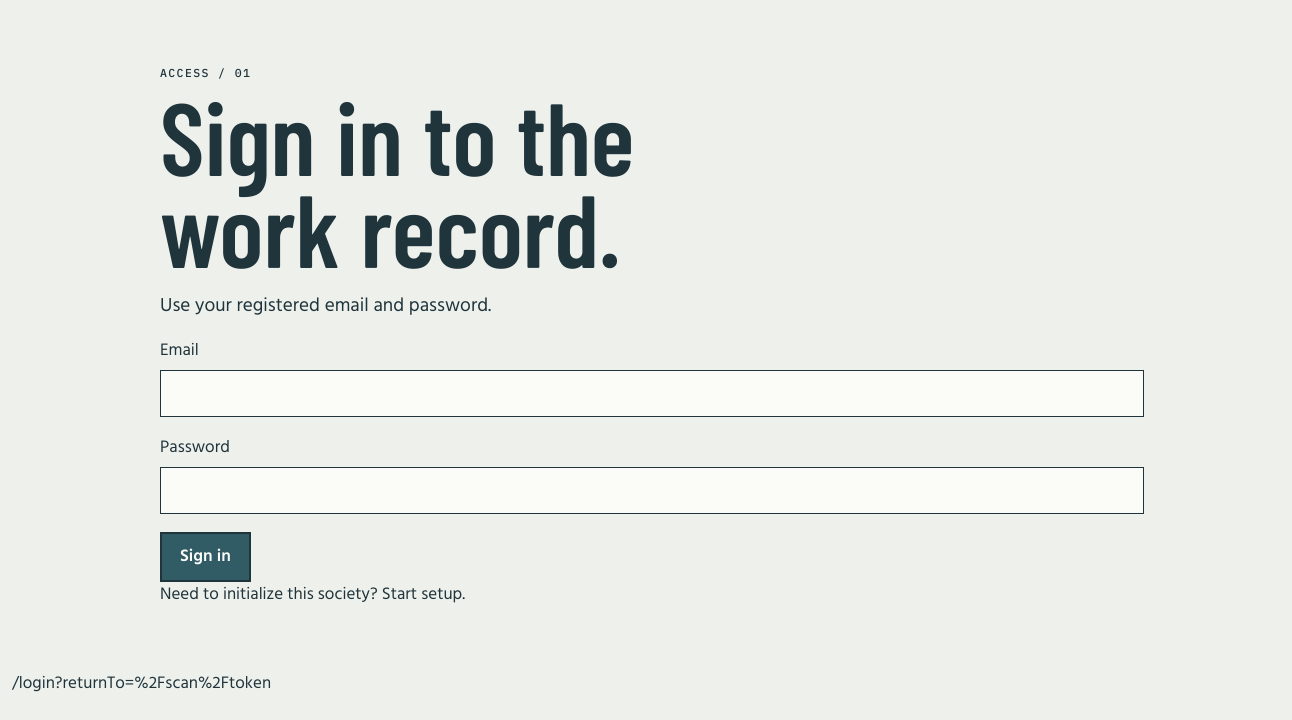
Test: asset identity experience › returns to encoded scan path after login
In the field labelled "Email": (652, 394) [160,370,1144,417], type "r@x.test"
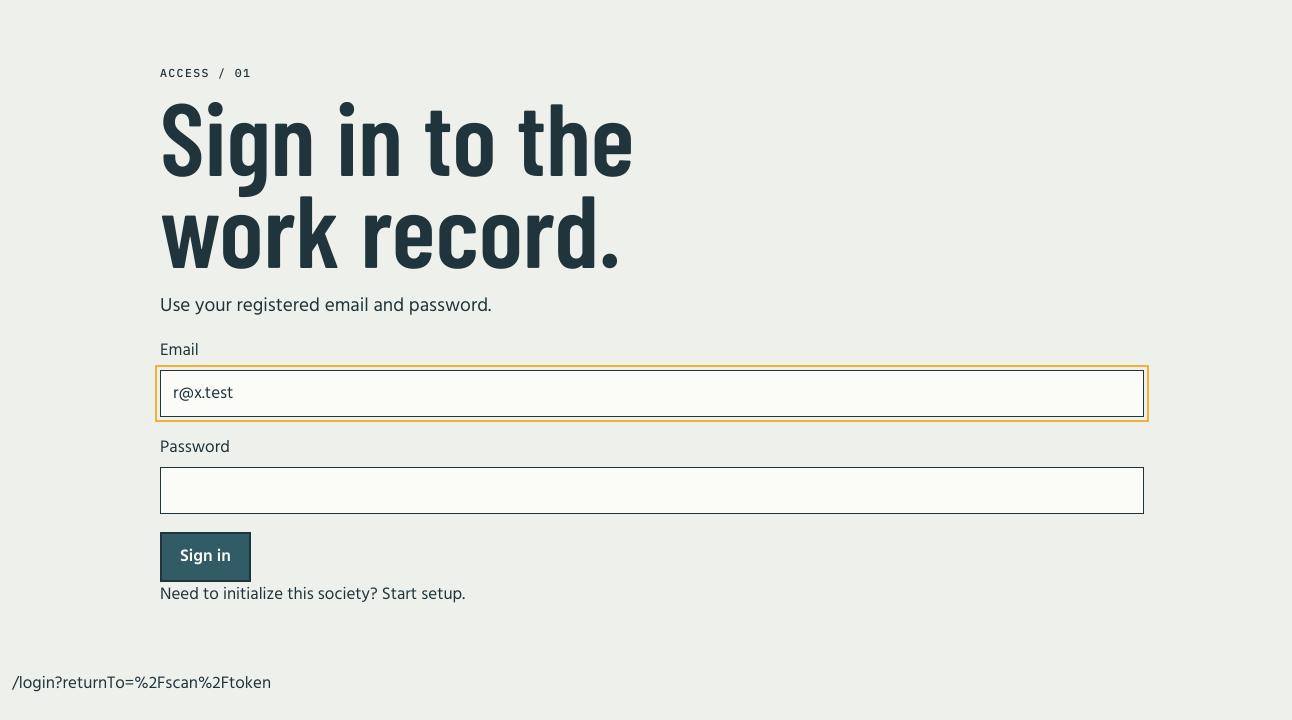
In the password field labelled "Password": (652, 491) [160,467,1144,514], type "password"
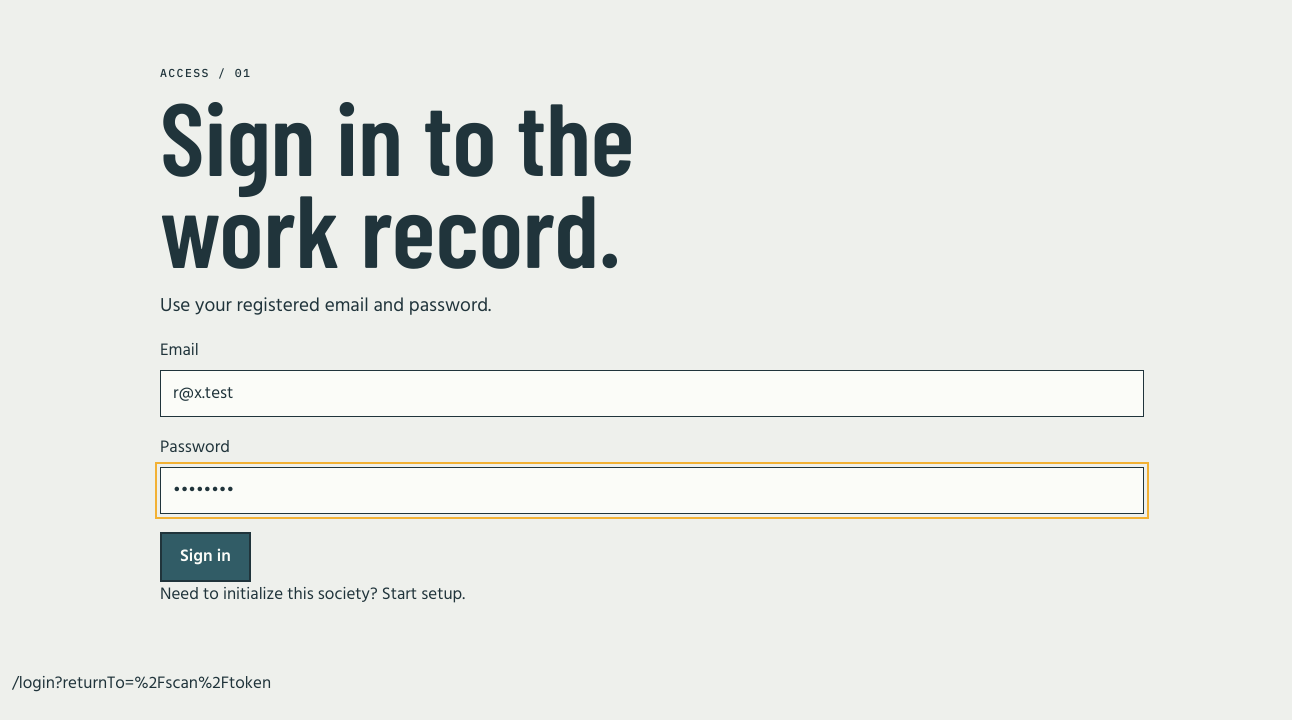
Click the button "Sign in": (205, 557) [160,532,251,582]
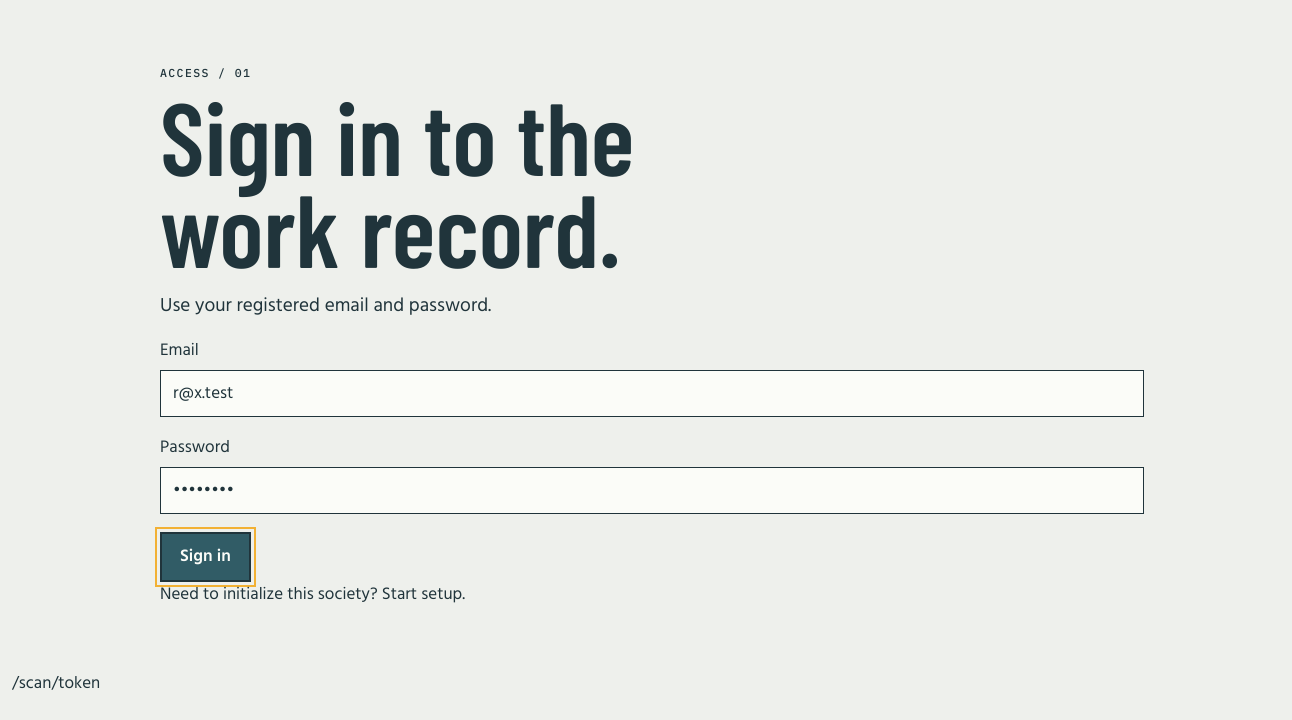
Expected: the text with test id "location" reads "/scan/token", [12,670,100,697]
